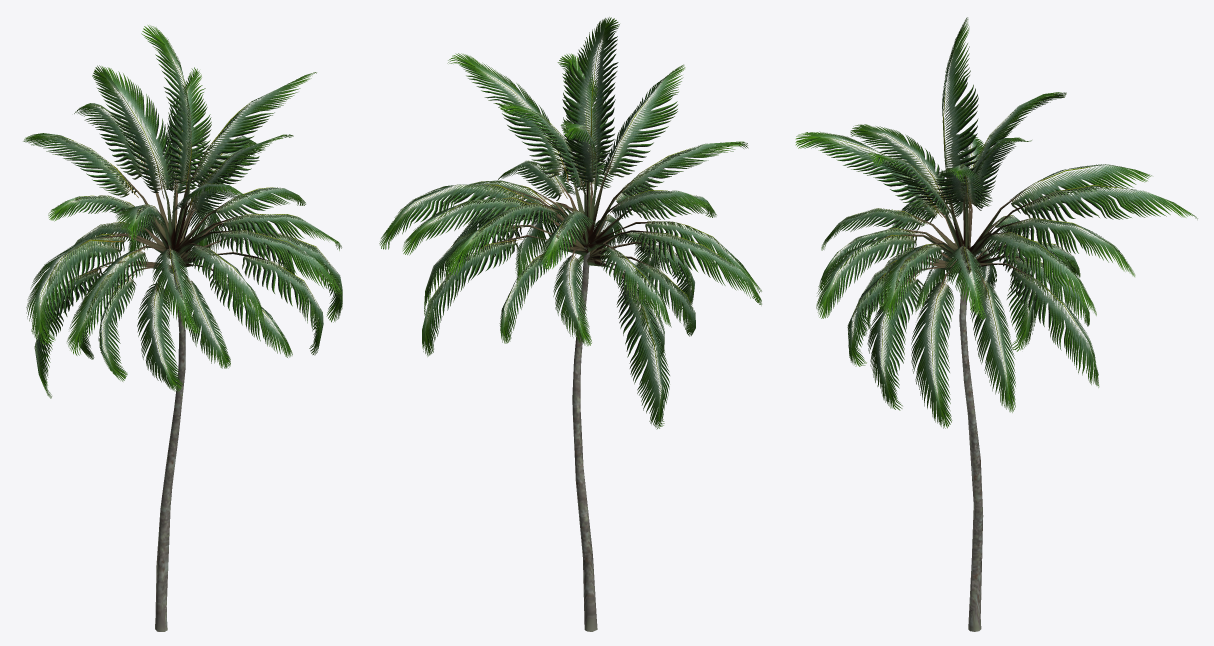
File: palma_2.glb
3 renders of one model, left to right at view 1: azimuth 30°, elevation 25°; view 2: azimuth 150°, elevation 25°; view 3: azimuth 270°, elevation 25°, orthographic.
Visible parts, largest first — view 1: SM_MZRa_Palm_B083_MI_MZRa_Palm_B08a_0, SM_MZRa_Palm_B083_MI_MZRa_Palm_B08b_0; view 2: SM_MZRa_Palm_B083_MI_MZRa_Palm_B08a_0, SM_MZRa_Palm_B083_MI_MZRa_Palm_B08b_0; view 3: SM_MZRa_Palm_B083_MI_MZRa_Palm_B08a_0, SM_MZRa_Palm_B083_MI_MZRa_Palm_B08b_0.
Boxes of the visible parts, x1,y1,x2,y2 form: SM_MZRa_Palm_B083_MI_MZRa_Palm_B08a_0: (23, 25, 342, 398); SM_MZRa_Palm_B083_MI_MZRa_Palm_B08b_0: (79, 153, 281, 631); SM_MZRa_Palm_B083_MI_MZRa_Palm_B08a_0: (379, 17, 761, 429); SM_MZRa_Palm_B083_MI_MZRa_Palm_B08b_0: (491, 131, 667, 631); SM_MZRa_Palm_B083_MI_MZRa_Palm_B08a_0: (795, 17, 1197, 428); SM_MZRa_Palm_B083_MI_MZRa_Palm_B08b_0: (891, 160, 1049, 631).
Bounding box in the file's own units: 3.06 × 5.71 × 3.46.
Materials: 2 (2 with a texture image).
